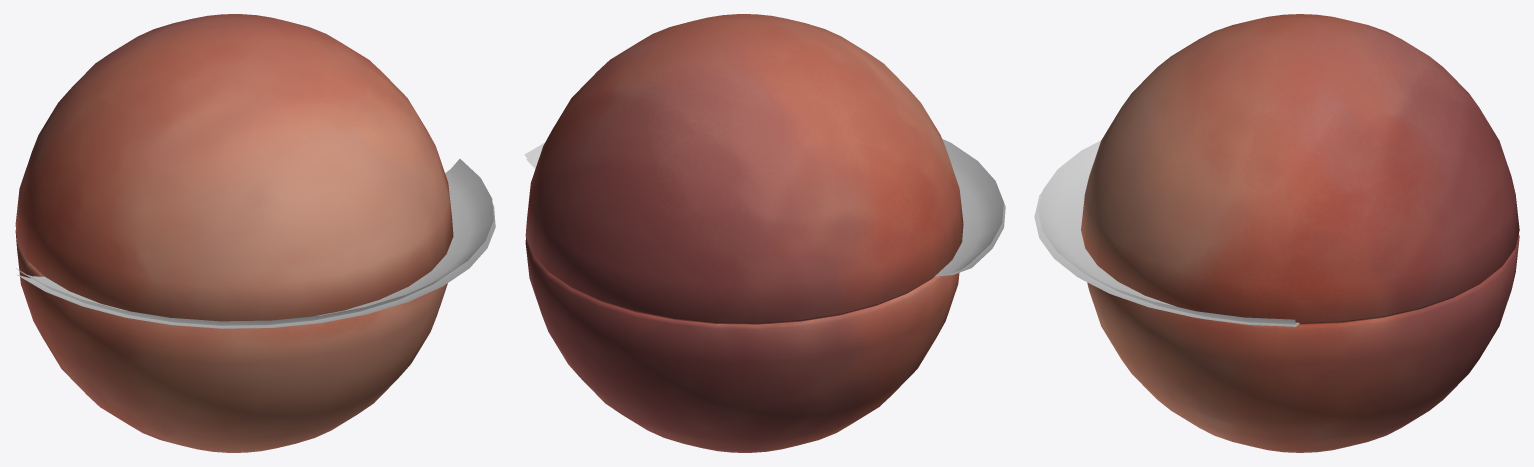
File: FBX_EyeLids.fbx
3 views of the same model, side by side, from view 1: azimuth 30°, elevation 25°; view 2: azimuth 150°, elevation 25°; view 3: azimuth 270°, elevation 25° (orthographic).
Visible parts, largest first — view 1: EyeBalltop, EyeBallBottem, EyeLashes_02, EyeLashes_01; view 2: EyeBalltop, EyeBallBottem, EyeLashes_02; view 3: EyeBalltop, EyeBallBottem, EyeLashes_02, EyeLashes_01.
Boxes of the visible parts, box(x1,y1,x2,y2) form: EyeBalltop: box(15, 14, 453, 321); EyeBallBottem: box(15, 230, 447, 452); EyeLashes_02: box(16, 159, 493, 325); EyeLashes_01: box(17, 204, 495, 328); EyeBalltop: box(525, 14, 963, 324); EyeBallBottem: box(525, 238, 959, 452); EyeLashes_02: box(524, 139, 1003, 276); EyeBalltop: box(1081, 14, 1519, 324); EyeBallBottem: box(1087, 234, 1519, 452); EyeLashes_02: box(1038, 140, 1299, 324); EyeLashes_01: box(1034, 191, 1299, 326).
Size of the model in its own units: 234 by 200 by 221.
